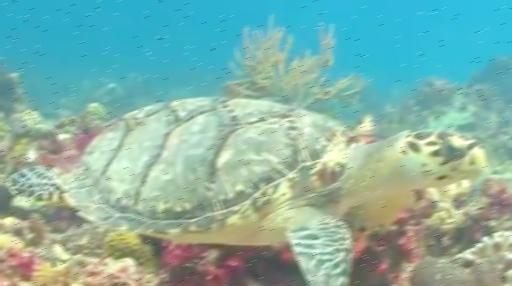Fish: (10, 98, 486, 285)
